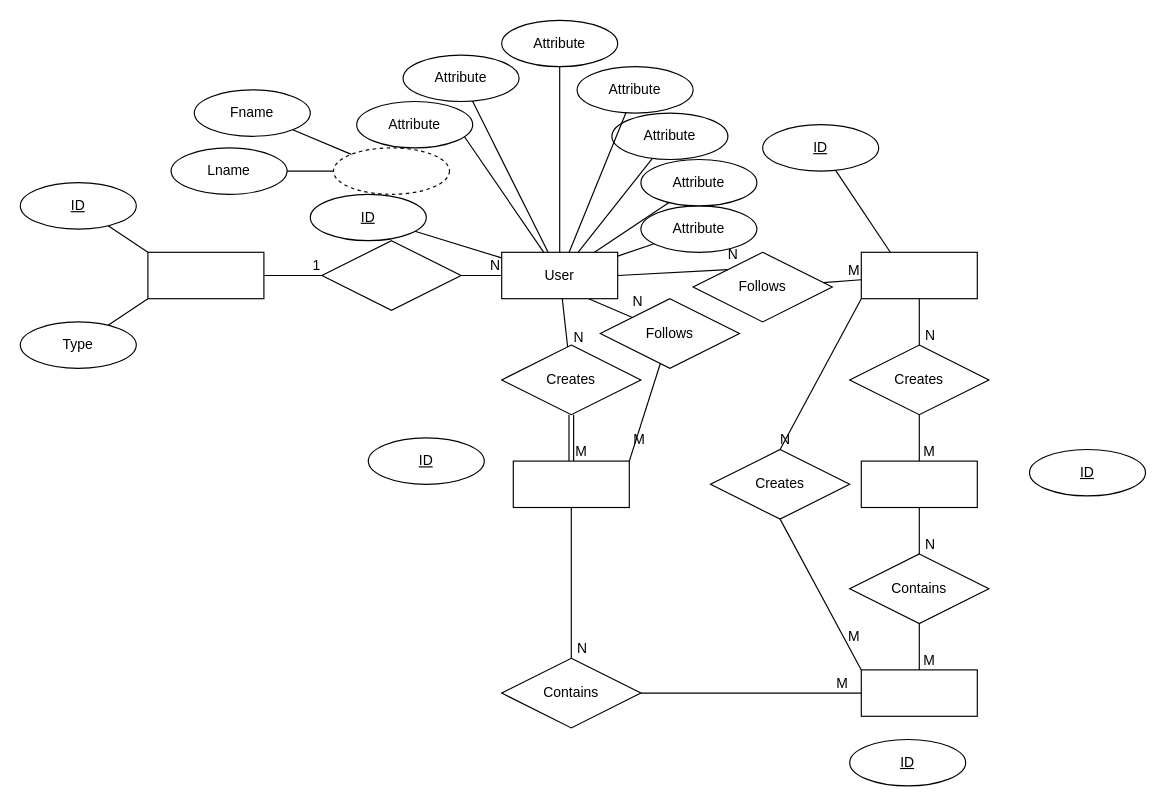
This 1166x806 diagram has some shape labels left out. Here are the shapes that lost their labels. From the top down, the centre of each, then its label:
At (x=390, y=170): "name".
At (x=205, y=275): "Subscription plan".
At (x=391, y=275): "Subscribes to".
At (x=918, y=275): "Artist".
At (x=570, y=483): "Playlist".
At (x=918, y=483): "Album".
At (x=918, y=692): "Track".
